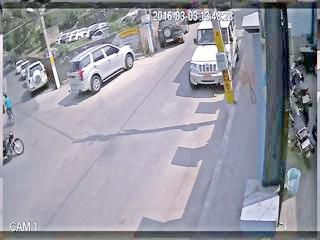Car: (190, 17, 238, 91), (67, 46, 135, 92), (157, 14, 188, 46), (24, 62, 48, 94), (20, 62, 29, 75), (15, 60, 23, 74)
Motor: (0, 131, 27, 158)
Not Accident: (15, 58, 48, 95)
